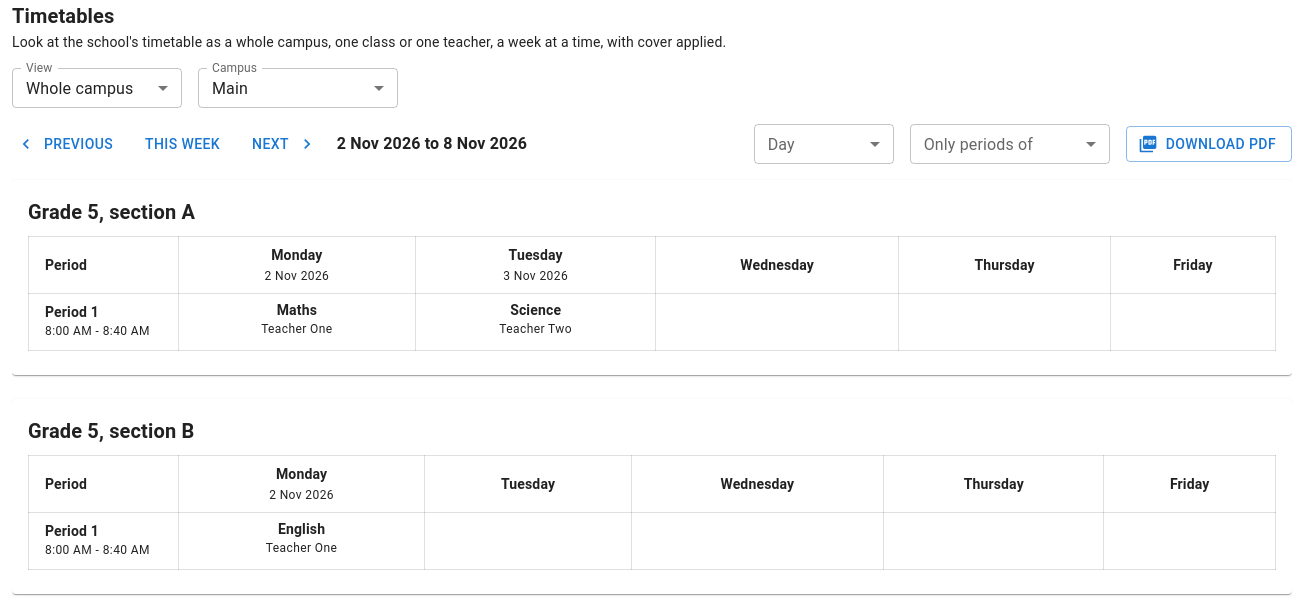
it: TimetablesSection › keeps only one teacher's periods, and drops sections where they have none
Expected: the heading "Grade 5, section A" is shown, [28, 200, 195, 224]
Click the dropdown named "Only periods of" next to "Only periods of": (1010, 144) [910, 124, 1110, 164]
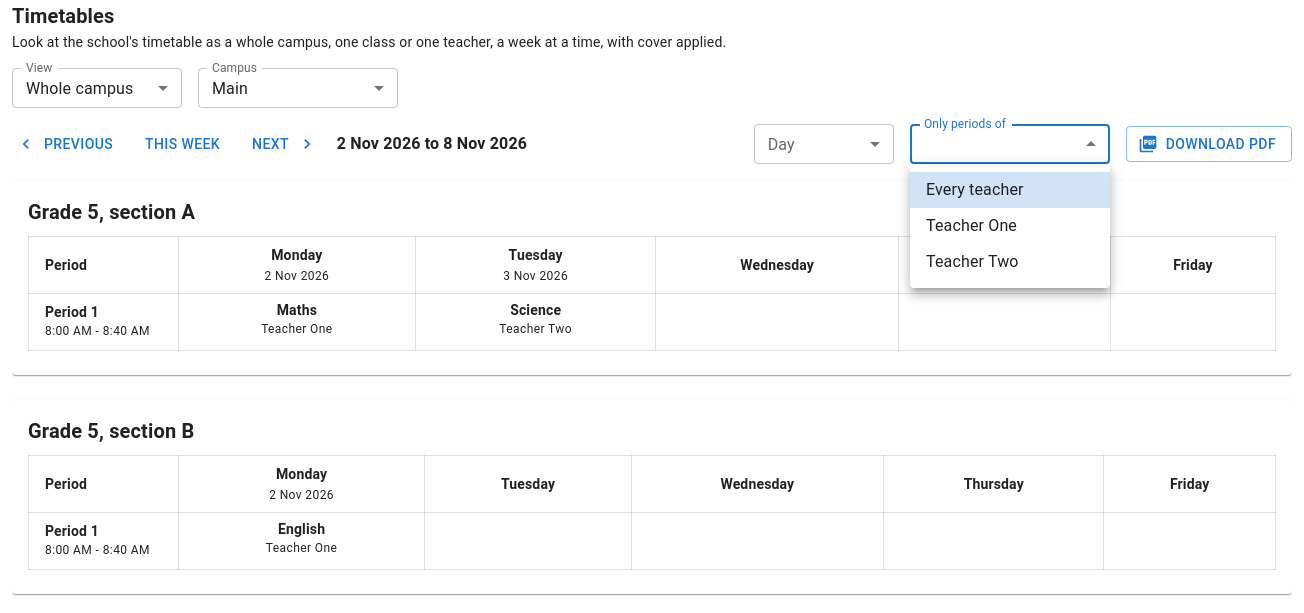
Click the option "Teacher One": (972, 226) [926, 216, 1017, 235]
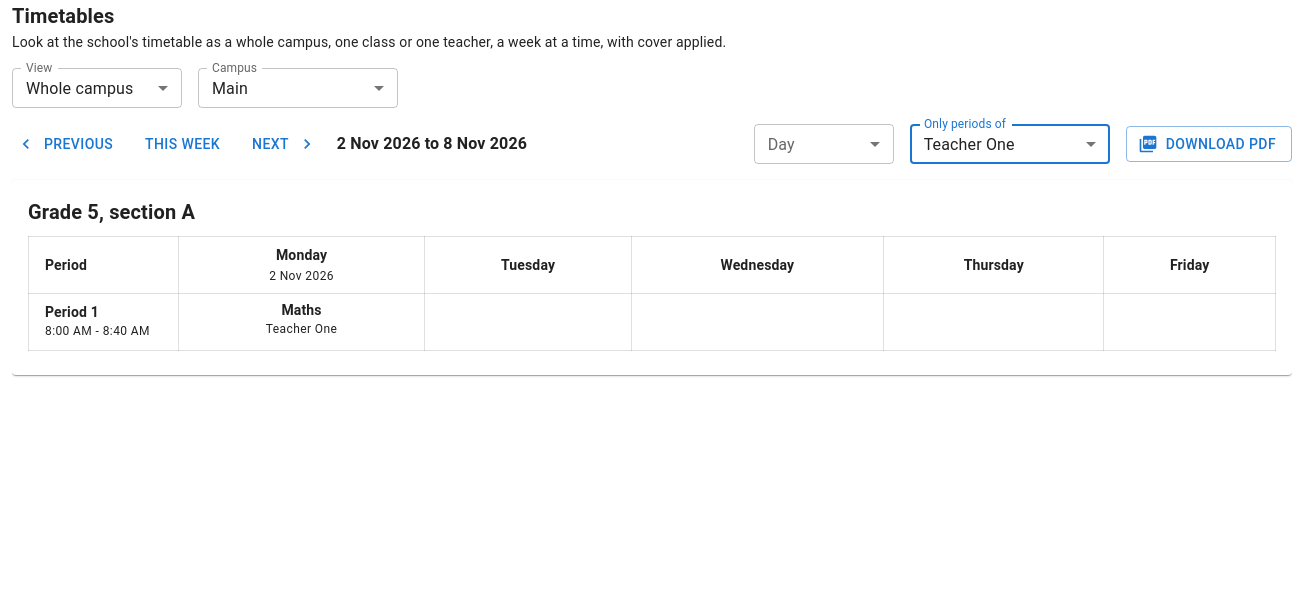
Expected: the heading "Grade 5, section A" is shown, [28, 200, 195, 224]
Result: the heading "Grade 5, section B" is gone
Result: the text "Science" is gone
